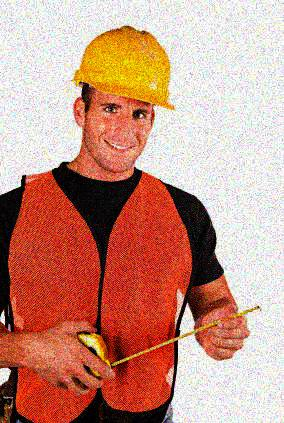helmet: (69, 24, 175, 174)
